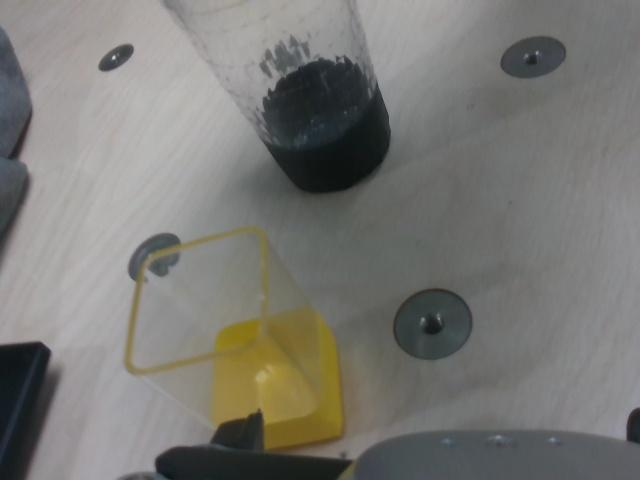black_cup: (264, 58, 392, 192)
yellow_cup: (207, 311, 344, 452)
